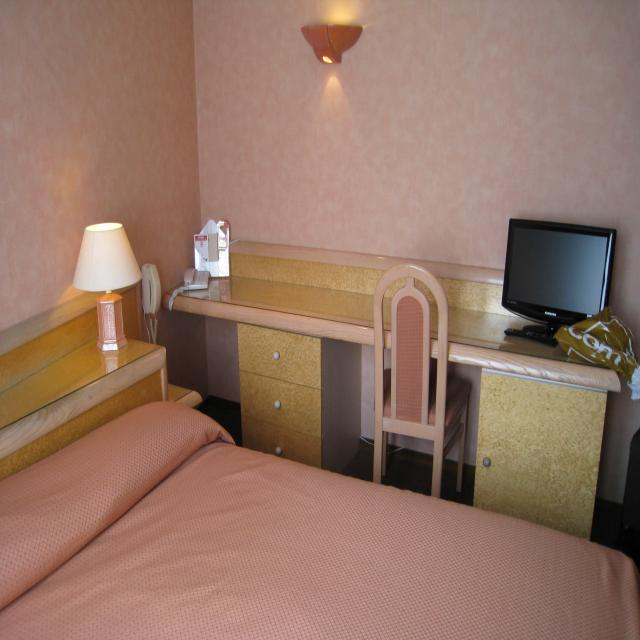bed -occluded-: (0, 402, 640, 640)
wall clock: (193, 1, 640, 534), (0, 1, 210, 585)
